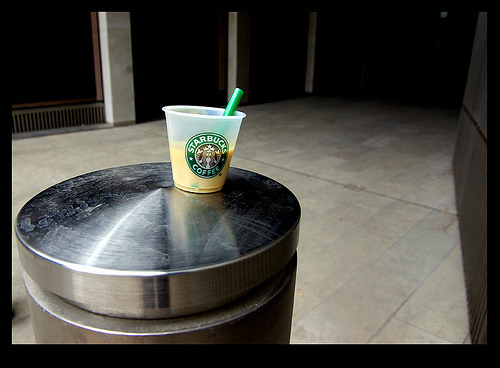litter: (161, 85, 246, 192)
